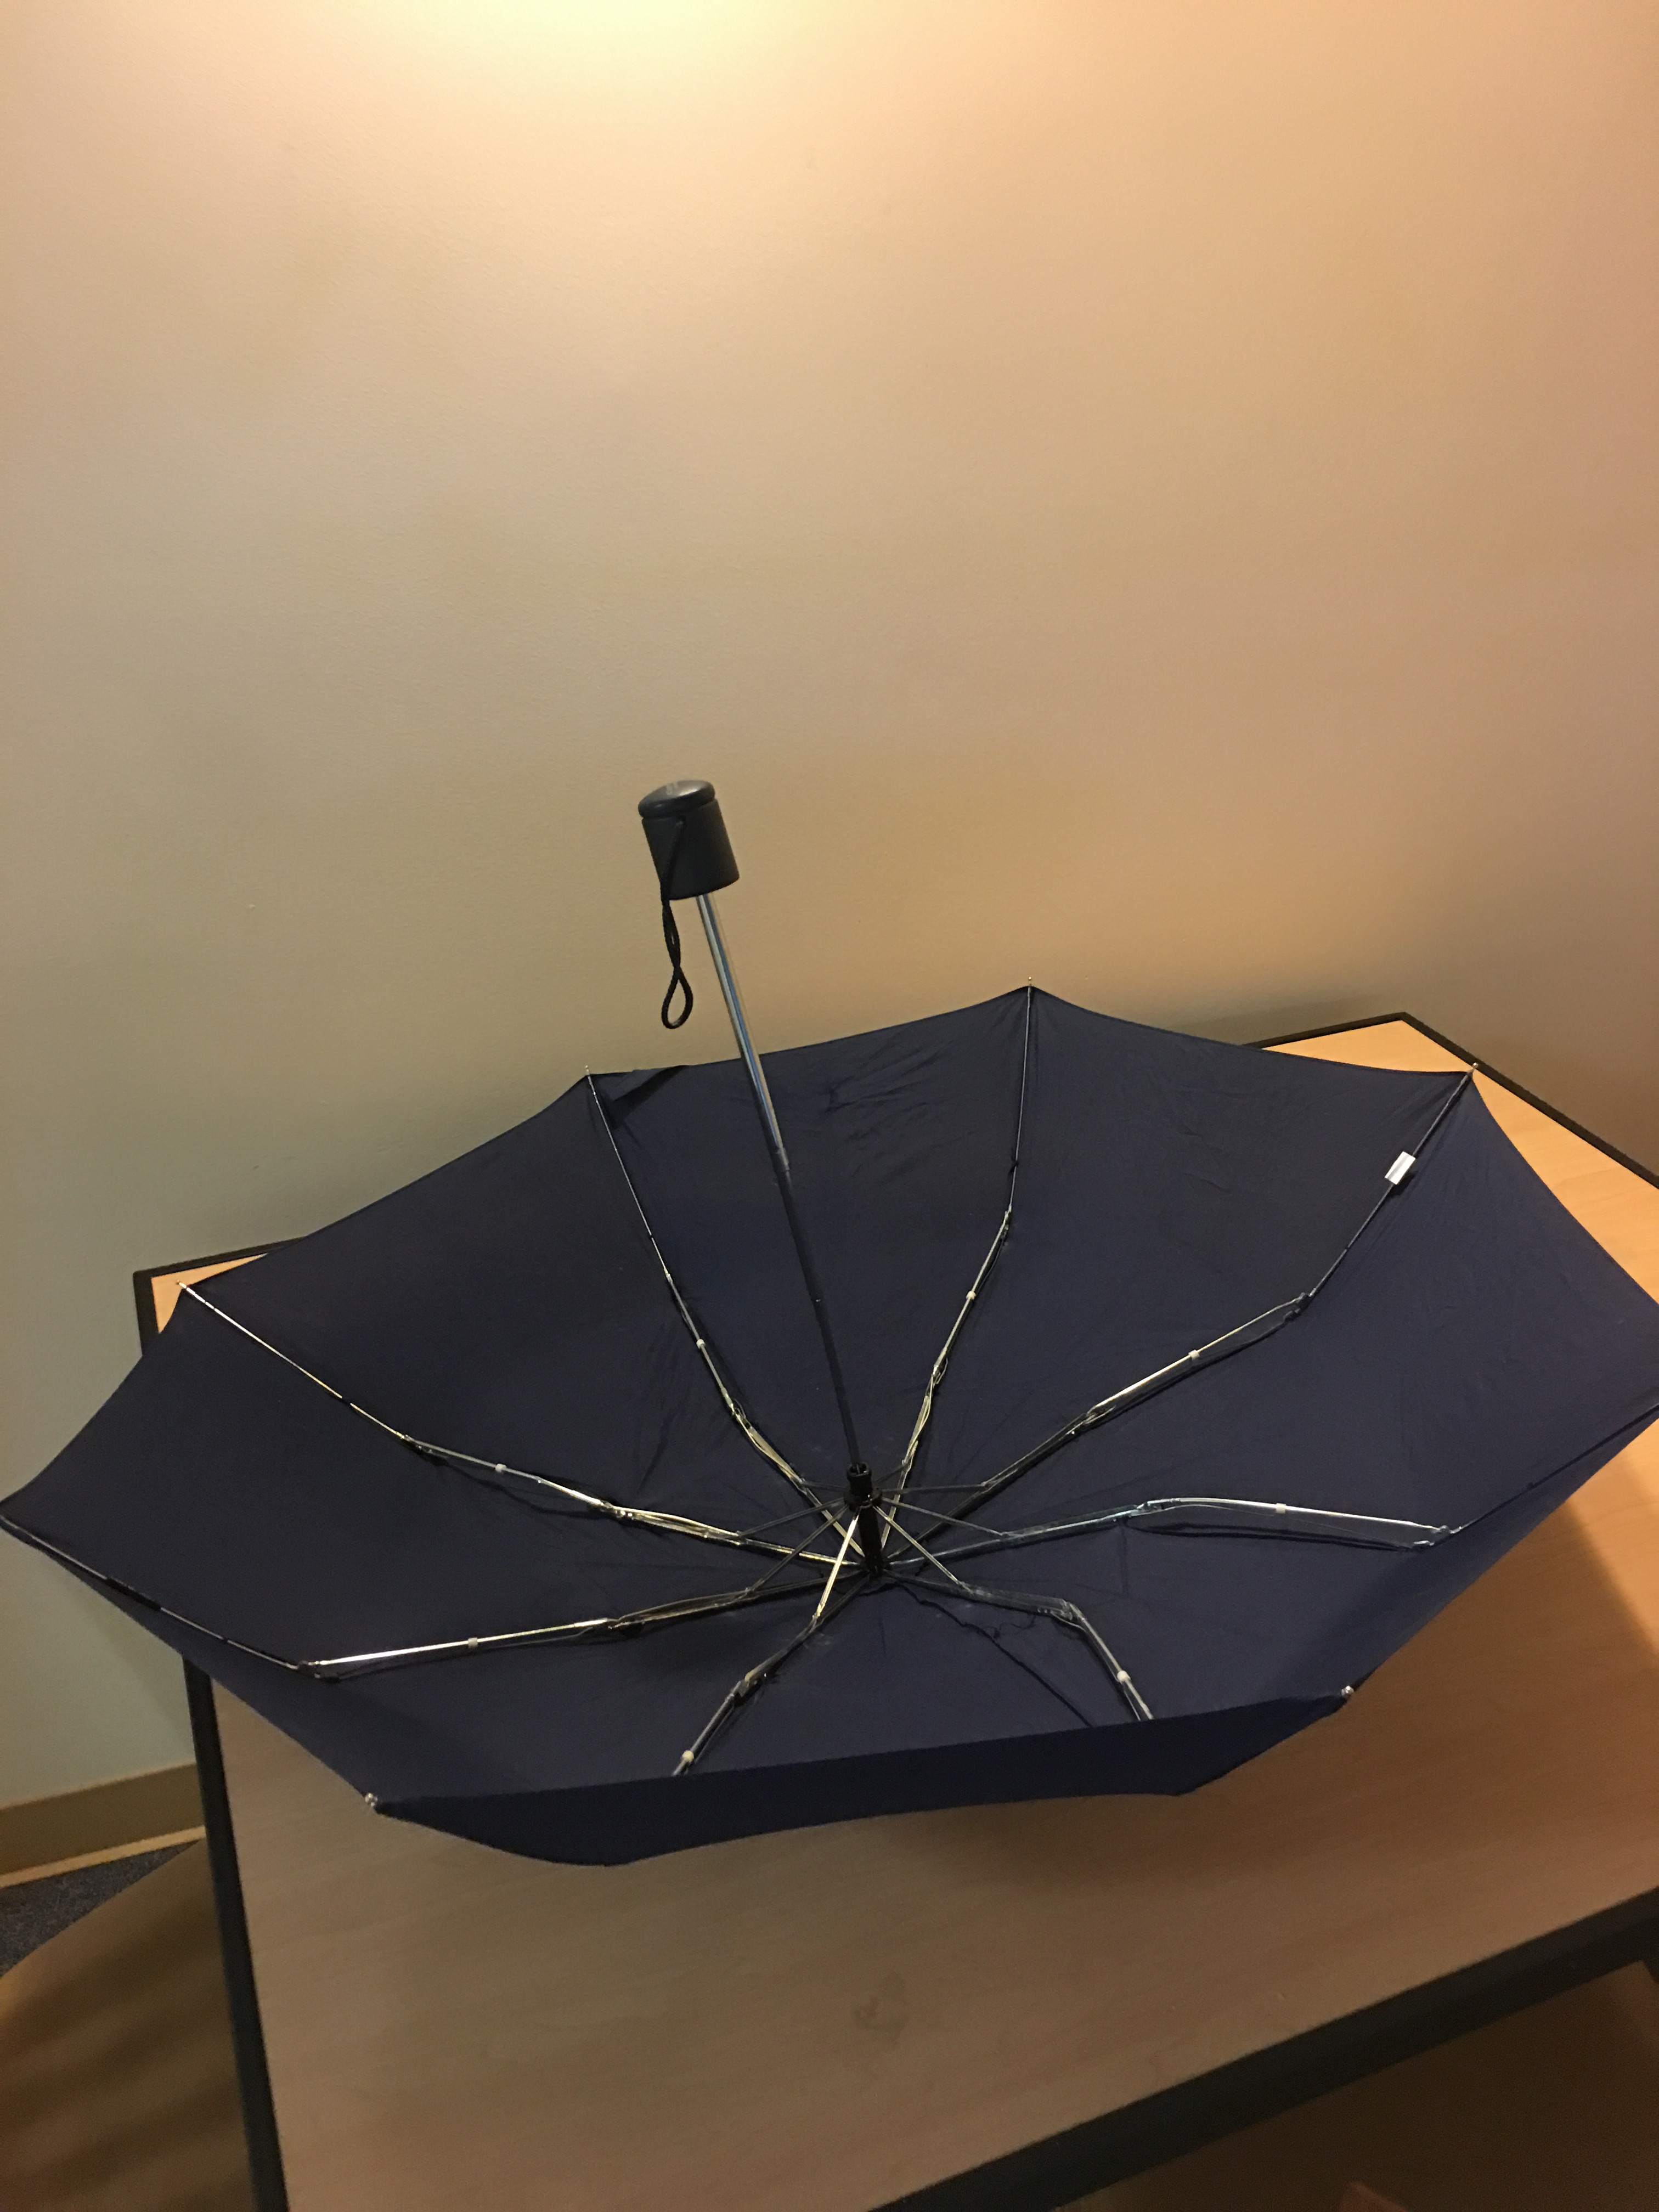Umbrella: (0, 768, 1659, 1878)
